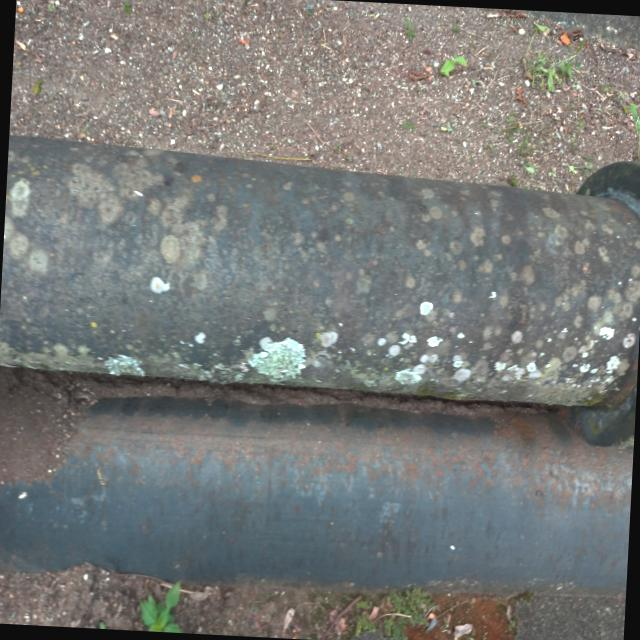gas: (0, 132, 640, 449)
